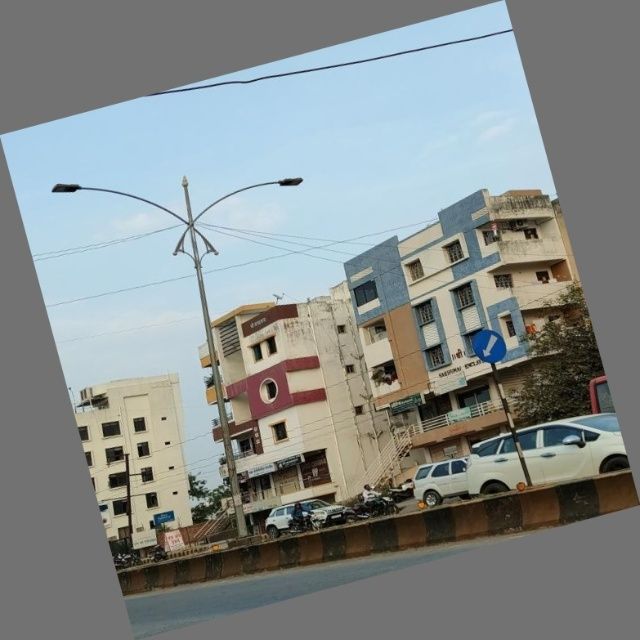R.301e: (464, 319, 520, 374)
